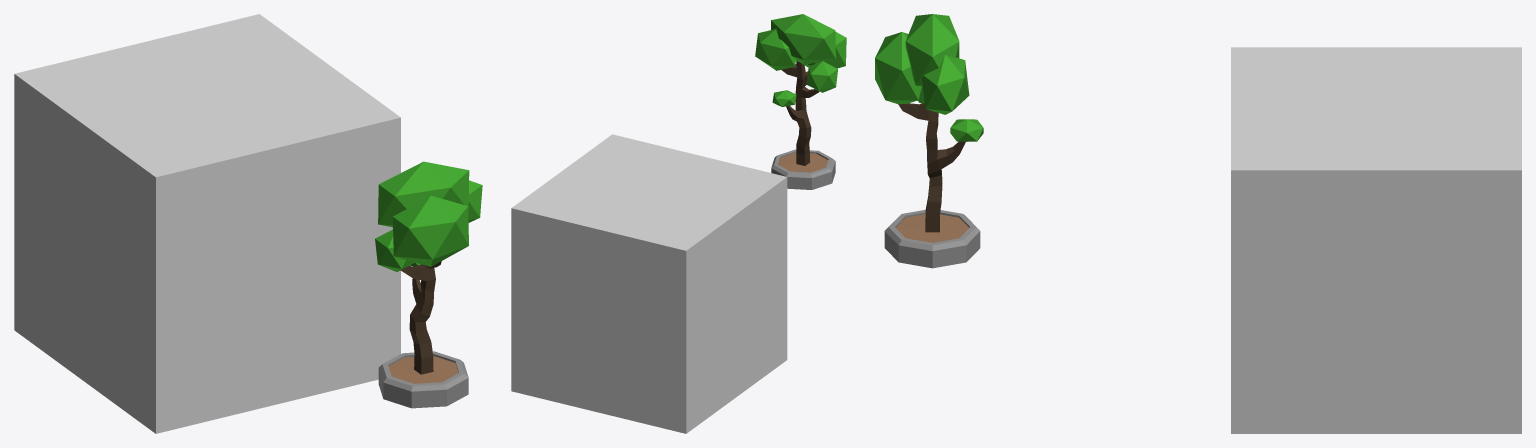
File: Tree.fbx
3 views of the same model, side by side, from view 1: azimuth 30°, elevation 25°; view 2: azimuth 150°, elevation 25°; view 3: azimuth 270°, elevation 25° (orthographic). The views are drawn at different scales.
Visible parts, largest first — view 1: Cube.001, Icosphere.001, Cylinder, Icosphere, Cube, Icosphere.003, Icosphere.002; view 2: Cube.001, Icosphere, Cylinder, Cube, Icosphere.002, Icosphere.003, Icosphere.001, Icosphere.004; view 3: Cube.001, Cylinder, Icosphere, Cube, Icosphere.001, Icosphere.002, Icosphere.004.
Part boxes in pixels (box(x1,y1,x2,y2)): Cube.001: box(14, 14, 400, 433); Icosphere.001: box(392, 195, 468, 266); Cylinder: box(378, 351, 468, 408); Icosphere: box(378, 161, 469, 227); Cube: box(401, 261, 441, 374); Icosphere.003: box(375, 229, 414, 271); Icosphere.002: box(468, 180, 482, 222); Cube.001: box(511, 134, 787, 433); Icosphere: box(771, 14, 835, 64); Cylinder: box(771, 149, 835, 189); Cube: box(781, 61, 819, 165); Icosphere.002: box(755, 29, 795, 70); Icosphere.003: box(806, 61, 837, 92); Icosphere.001: box(804, 32, 846, 68); Icosphere.004: box(772, 90, 796, 106); Cube.001: box(1231, 47, 1521, 433); Cylinder: box(884, 209, 980, 268); Icosphere: box(905, 14, 959, 86); Cube: box(898, 103, 965, 232); Icosphere.001: box(875, 32, 923, 103); Icosphere.002: box(922, 55, 969, 114); Icosphere.004: box(950, 119, 983, 141).
Size of the model in its own units: 200 by 272 by 445.
